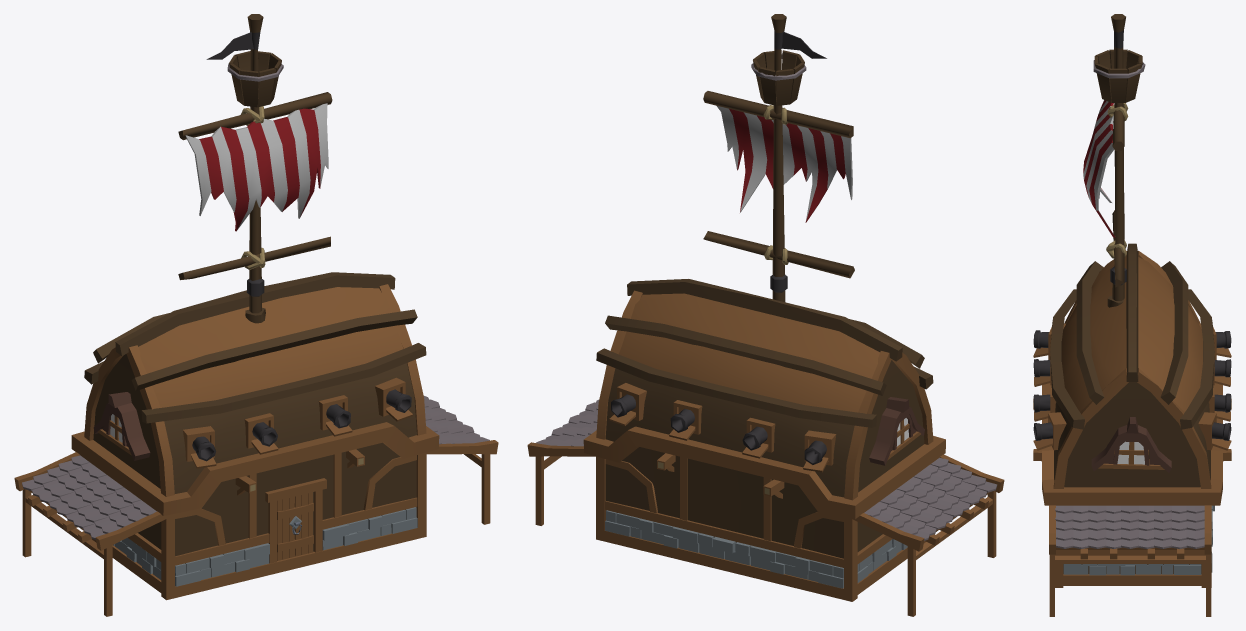
Rendered from house3.glb.
The picture shows the model from 3 angles, left to right: view 1: azimuth 30°, elevation 25°; view 2: azimuth 150°, elevation 25°; view 3: azimuth 270°, elevation 25°; orthographic projection. The views are drawn at different scales.
Visible parts, largest first — view 1: Environment_House3; view 2: Environment_House3; view 3: Environment_House3.
Part boxes in pixels (x1,y1,x2,y2): Environment_House3: (14,14,498,616); Environment_House3: (527,14,1004,616); Environment_House3: (1033,14,1231,616).
Bounding box in the file's own units: 8.46 × 10.64 × 3.78.
